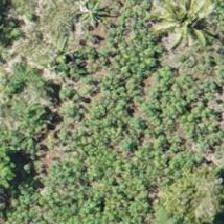coconut_tree: (129, 0, 219, 64)
